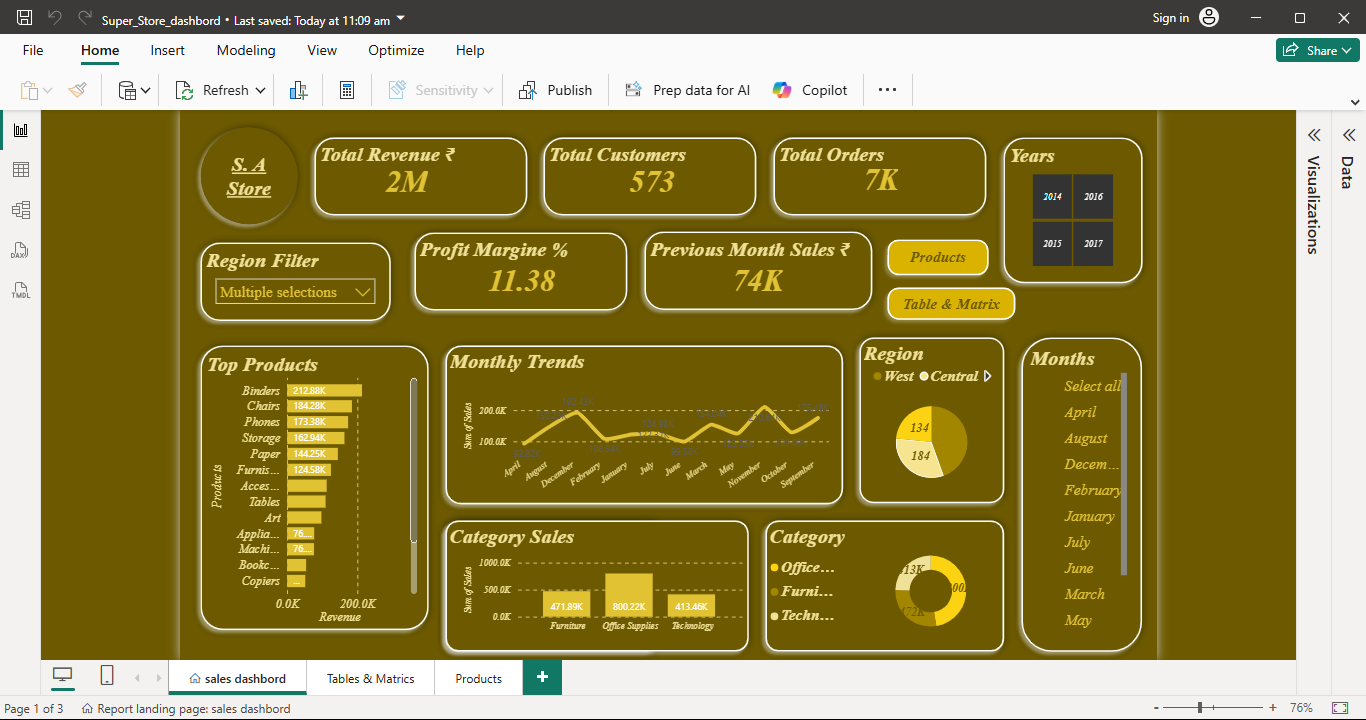

The dashboard page shown, as its layout file describes it:
{"tool":"powerbi","page":{"name":"sales dashbord","canvas":[1280,720],"ordinal":0},"visuals":[{"type":"shape","box":[15.1,11.8,149.5,149.5],"z":0},{"type":"shape","box":[164.6,25.2,300.7,124.3],"z":1000},{"type":"shape","box":[465.3,25.2,300.7,124.3],"z":2000},{"type":"shape","box":[766,25.2,300.7,124.3],"z":3000},{"type":"shape","box":[295.6,149.5,300.7,124.3],"z":4000},{"type":"shape","box":[596.9,147.9,320.4,125],"z":5000},{"type":"shape","box":[15.1,297.3,320.8,394.8],"z":6000},{"type":"shape","box":[336,297.3,542.6,230.1],"z":7000},{"type":"shape","box":[336,527.5,304,193.2],"z":8000},{"type":"shape","box":[336.3,526.4,419,193.7],"z":9000},{"type":"cardVisual","fields":{"Data":["Sales.Total Revenue"]},"box":[188.6,60.5,216,64.8],"z":10000},{"type":"cardVisual","fields":{"Data":["Sales.Total Customers"]},"box":[478.7,60.5,277.2,65.5],"z":11000},{"type":"cardVisual","fields":{"Data":["Sales.Total Orders"]},"box":[787.8,53.8,258.7,72.2],"z":12000},{"type":"cardVisual","fields":{"Data":["Sales.Profit Margine %"]},"box":[317.5,186.5,258.7,72.2],"z":13000},{"type":"cardVisual","fields":{"Data":["Sales.Previous_Month_sales"]},"box":[626.6,186.5,258.7,72.2],"z":14000},{"type":"barChart","fields":{"Category":["Orders.Sub-Category"],"Y":["Sum(Sales.Sales)"]},"box":[35.2,338,279.9,339.8],"z":15000},{"type":"shape","box":[15.8,162,271.1,125],"z":16000},{"type":"slicer","fields":{"Values":["Customers.Region"]},"box":[37,211.3,228.9,63.4],"z":17000},{"type":"shape","box":[1067,24.6,204.2,213],"z":18000},{"type":"slicer","fields":{"Values":["Sales.Year"]},"box":[1089.8,77.5,154.9,133.8],"z":19000},{"type":"shape","box":[1090.1,286.6,180,433.4],"z":20000},{"type":"slicer","fields":{"Values":["Sales.Month Name"]},"box":[1116,338.4,128.2,352.8],"z":21000},{"type":"shape","box":[755.3,526.4,334.5,193.7],"z":22000},{"type":"shape","box":[878.3,287,211.6,239.1],"z":23000},{"type":"lineChart","fields":{"Category":["Sales.Month Name"],"Y":["Sum(Sales.Sales)"]},"box":[366.2,359.2,487.7,149.7],"z":24000},{"type":"clusteredColumnChart","fields":{"Category":["Orders.Category"],"Y":["Sum(Sales.Sales)"]},"box":[366.2,579.3,375,112.7],"z":25000},{"type":"pieChart","fields":{"Category":["Customers.Region"],"Y":["Sales.Total Customers"]},"box":[900,324.6,166.7,184.1],"z":26000},{"type":"donutChart","fields":{"Category":["Orders.Category"],"Y":["Sum(Sales.Sales)"]},"box":[766,564.4,336,131],"z":27000},{"type":"actionButton","box":[917.4,160.9,149.3,63.8],"z":28000},{"type":"actionButton","box":[917.3,223.2,184.3,59],"z":29000}]}

Visuals, with their boxes on the page's 1280x720 design canvas (x1, y1, x2, y2). These are canvas units, not pixel positions in the 1366x720 screenshot, which may show the page scaled, cropped or inside an application window:
shape: {"left": 15, "top": 12, "right": 165, "bottom": 161}
shape: {"left": 165, "top": 25, "right": 465, "bottom": 150}
shape: {"left": 465, "top": 25, "right": 766, "bottom": 150}
shape: {"left": 766, "top": 25, "right": 1067, "bottom": 150}
shape: {"left": 296, "top": 150, "right": 596, "bottom": 274}
shape: {"left": 597, "top": 148, "right": 917, "bottom": 273}
shape: {"left": 15, "top": 297, "right": 336, "bottom": 692}
shape: {"left": 336, "top": 297, "right": 879, "bottom": 527}
shape: {"left": 336, "top": 528, "right": 640, "bottom": 721}
shape: {"left": 336, "top": 526, "right": 755, "bottom": 720}
cardVisual - Sales.Total Revenue: {"left": 189, "top": 60, "right": 405, "bottom": 125}
cardVisual - Sales.Total Customers: {"left": 479, "top": 60, "right": 756, "bottom": 126}
cardVisual - Sales.Total Orders: {"left": 788, "top": 54, "right": 1046, "bottom": 126}
cardVisual - Sales.Profit Margine %: {"left": 318, "top": 186, "right": 576, "bottom": 259}
cardVisual - Sales.Previous_Month_sales: {"left": 627, "top": 186, "right": 885, "bottom": 259}
barChart - Orders.Sub-Category x Sum(Sales.Sales): {"left": 35, "top": 338, "right": 315, "bottom": 678}
shape: {"left": 16, "top": 162, "right": 287, "bottom": 287}
slicer - Customers.Region: {"left": 37, "top": 211, "right": 266, "bottom": 275}
shape: {"left": 1067, "top": 25, "right": 1271, "bottom": 238}
slicer - Sales.Year: {"left": 1090, "top": 78, "right": 1245, "bottom": 211}
shape: {"left": 1090, "top": 287, "right": 1270, "bottom": 720}
slicer - Sales.Month Name: {"left": 1116, "top": 338, "right": 1244, "bottom": 691}
shape: {"left": 755, "top": 526, "right": 1090, "bottom": 720}
shape: {"left": 878, "top": 287, "right": 1090, "bottom": 526}
lineChart - Sales.Month Name x Sum(Sales.Sales): {"left": 366, "top": 359, "right": 854, "bottom": 509}
clusteredColumnChart - Orders.Category x Sum(Sales.Sales): {"left": 366, "top": 579, "right": 741, "bottom": 692}
pieChart - Customers.Region x Sales.Total Customers: {"left": 900, "top": 325, "right": 1067, "bottom": 509}
donutChart - Orders.Category x Sum(Sales.Sales): {"left": 766, "top": 564, "right": 1102, "bottom": 695}
actionButton: {"left": 917, "top": 161, "right": 1067, "bottom": 225}
actionButton: {"left": 917, "top": 223, "right": 1102, "bottom": 282}
